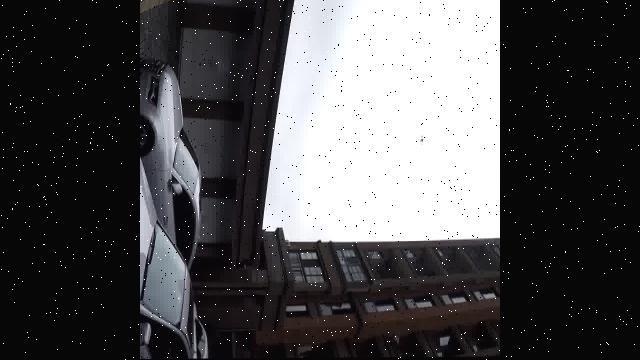drone: (414, 128, 438, 169)
